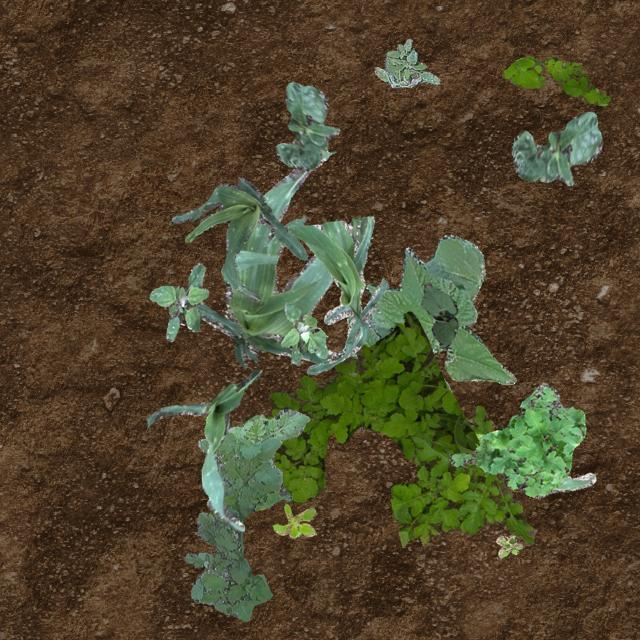crop: (194, 150, 336, 366), (346, 234, 516, 384), (146, 368, 260, 530), (170, 176, 306, 300), (286, 215, 386, 372), (511, 110, 602, 184), (274, 80, 338, 170), (421, 280, 456, 346), (548, 472, 594, 492)
weed: (208, 310, 478, 516), (182, 408, 308, 620), (389, 404, 534, 546), (448, 380, 584, 498), (502, 56, 610, 104), (148, 262, 208, 340), (374, 38, 438, 86), (280, 302, 326, 364), (272, 504, 314, 536), (494, 534, 522, 556)
